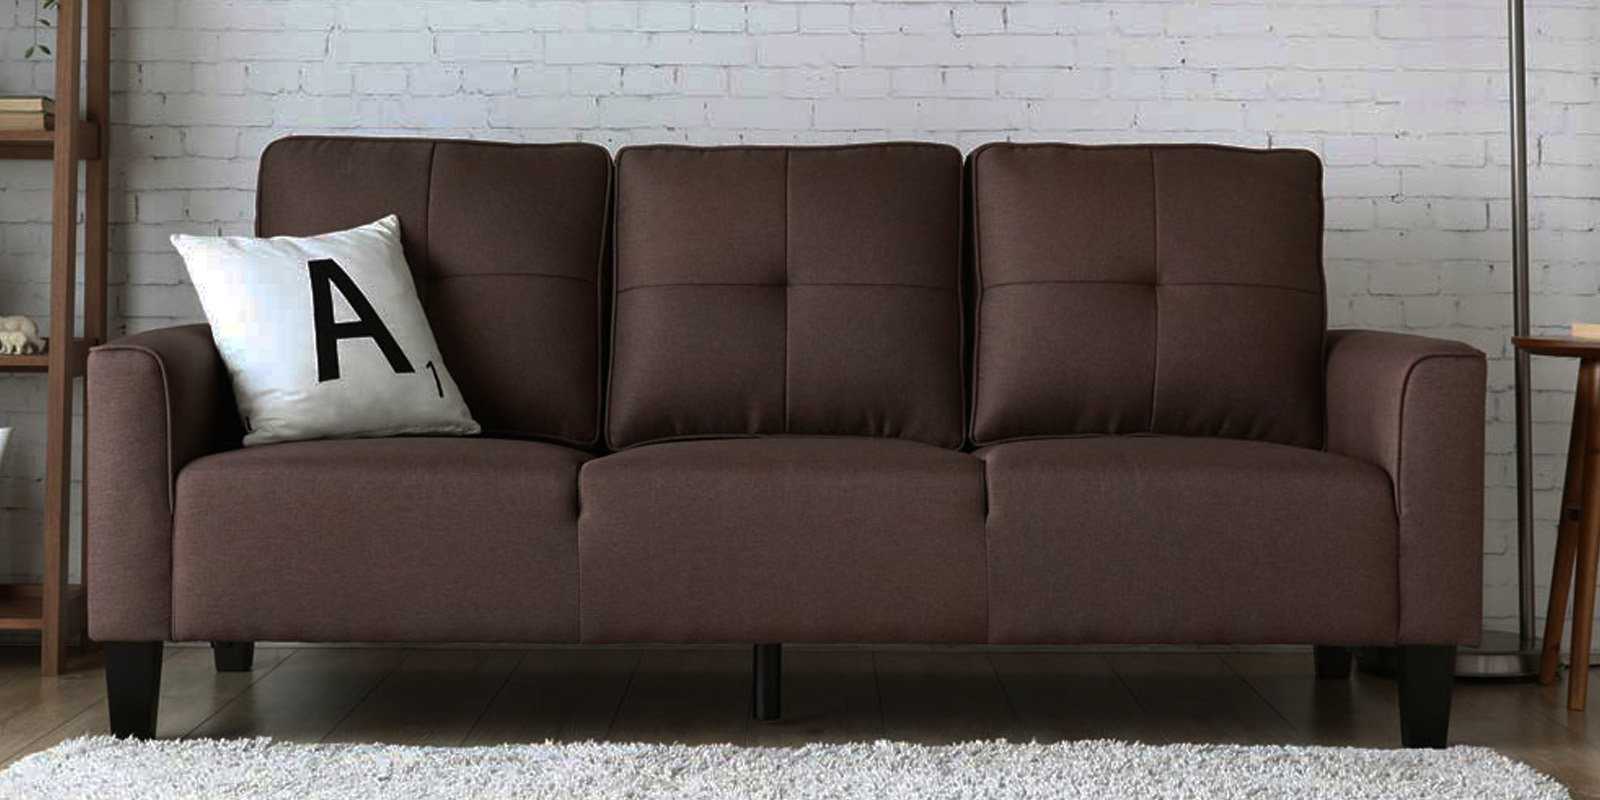Alice Three Seater Sofa in Brown Colour by Zofa: (88, 126, 1492, 765)
